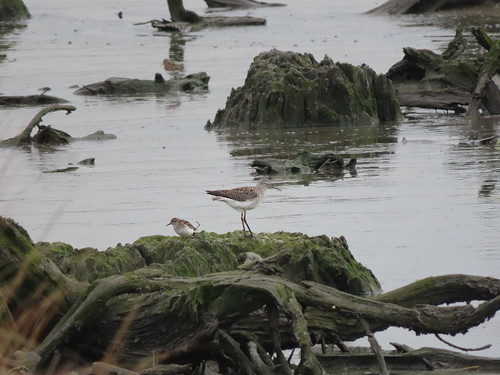animal: (209, 171, 276, 241), (161, 210, 202, 244)
river: (1, 1, 489, 274)
